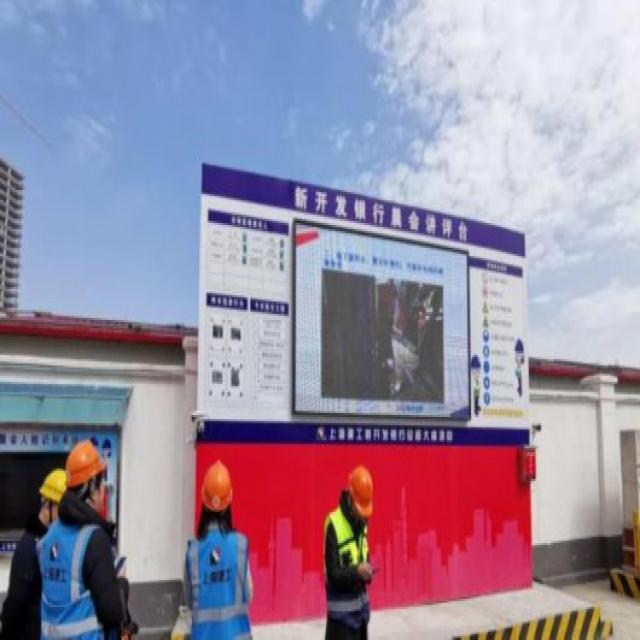Reflective-Jacket: (34, 518, 116, 640), (184, 526, 253, 640), (320, 508, 374, 621)
Safety-Helmet: (63, 436, 107, 491), (344, 458, 378, 518), (202, 456, 236, 512), (37, 464, 70, 506)
